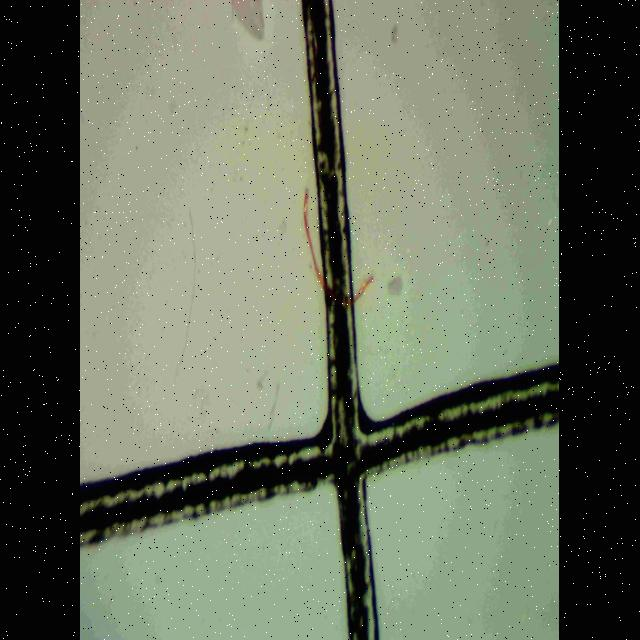Fibre: (80, 0, 560, 640), (298, 181, 376, 315)
